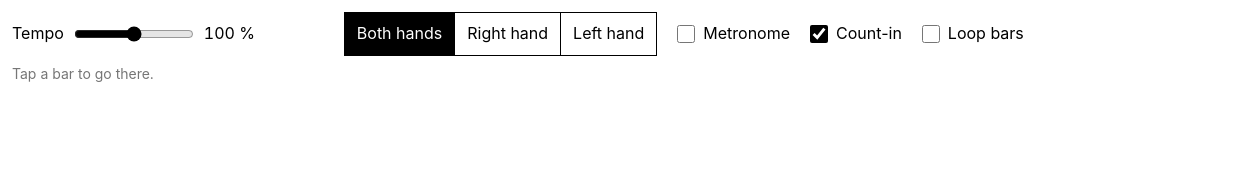
Test case: the loop as one checkbox (spec 13) › shows no bar fields until "Loop bars" is ticked, then loops at once; unticking clears it
Click the checkbox labelled "Loop bars" at (931, 34), box [922,25,940,43]
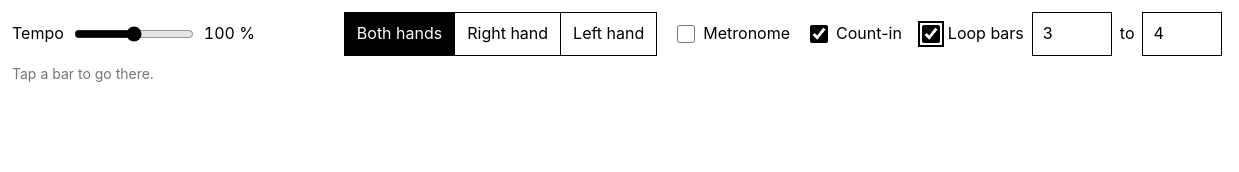
Expected: the number field named "Loop from bar" holds "3", [1032,12,1112,56]
Expected: the number field named "Loop to bar" holds "4", [1142,12,1222,56]
Click the checkbox labelled "Loop bars" at (931, 34), box [922,25,940,43]
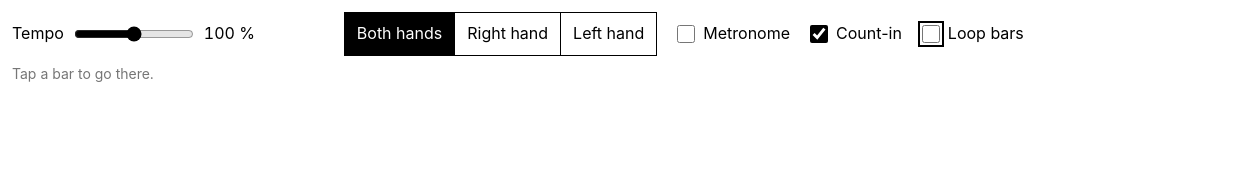
Click the checkbox labelled "Loop bars" at (931, 34), box [922,25,940,43]
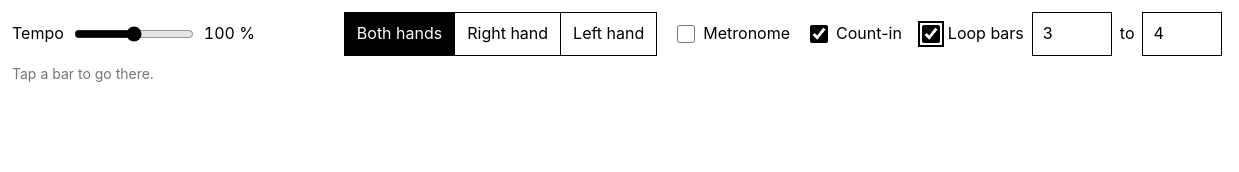
Expected: the number field named "Loop from bar" holds "3", [1032,12,1112,56]
